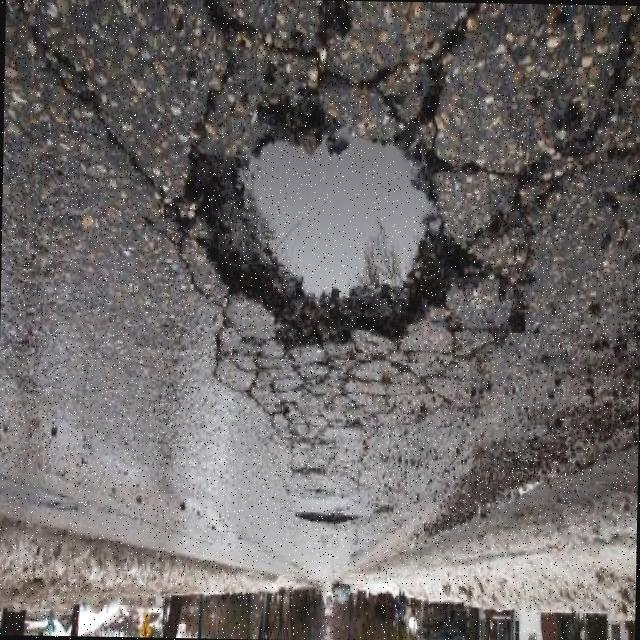Pothole: (166, 0, 491, 353), (299, 505, 361, 528)
